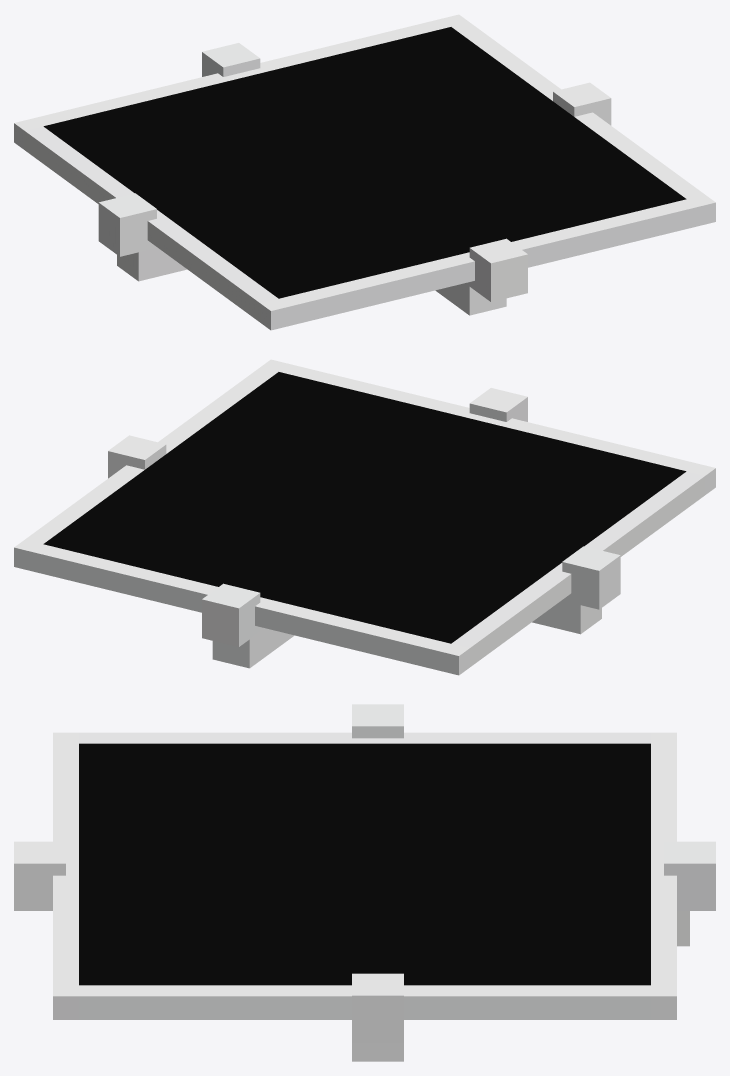
File: floating_platform.gltf
3 renders of one model, top to bottom at view 1: azimuth 30°, elevation 25°; view 2: azimuth 150°, elevation 25°; view 3: azimuth 270°, elevation 25°, orthographic. The views are drawn at different scales.
Parts seen in each view (by area): view 1: mesh; view 2: mesh; view 3: mesh.
Part boxes in pixels (x1,y1,x2,y2): mesh: (14, 14, 715, 330); mesh: (14, 359, 715, 675); mesh: (14, 704, 715, 1061).
Size of the model in its own units: 3.31 by 0.6875 by 3.38.
2 materials, 2 textured.
